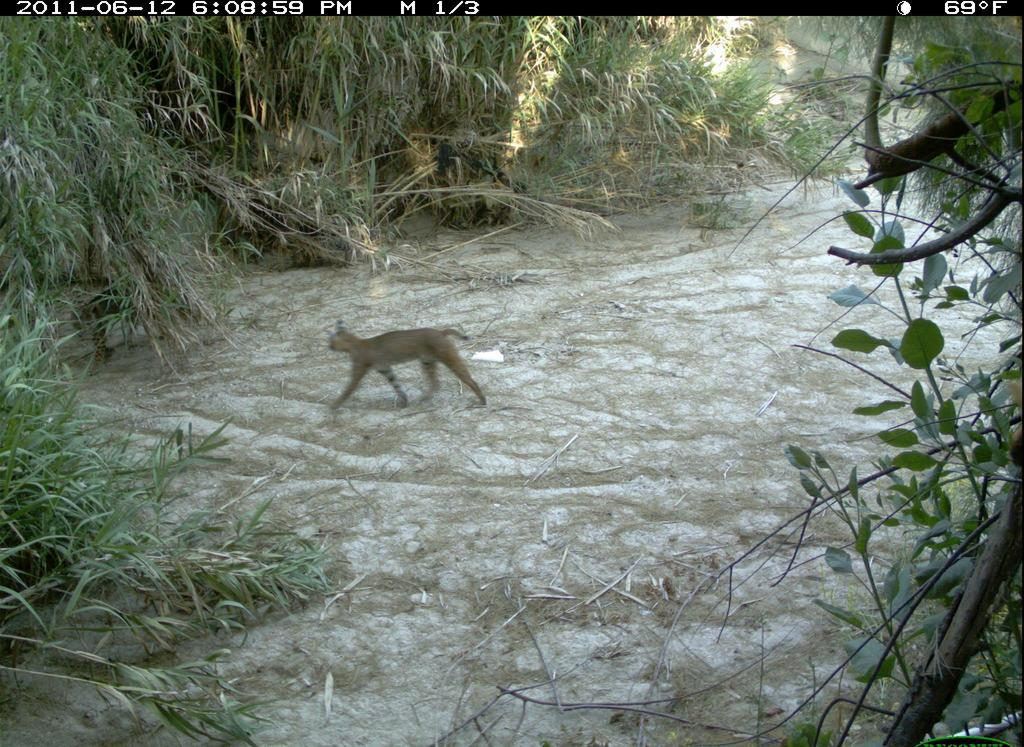bobcat: (322, 314, 498, 419)
